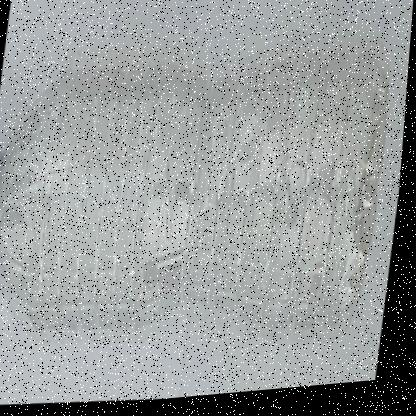bottle cap: (1, 52, 95, 360)
